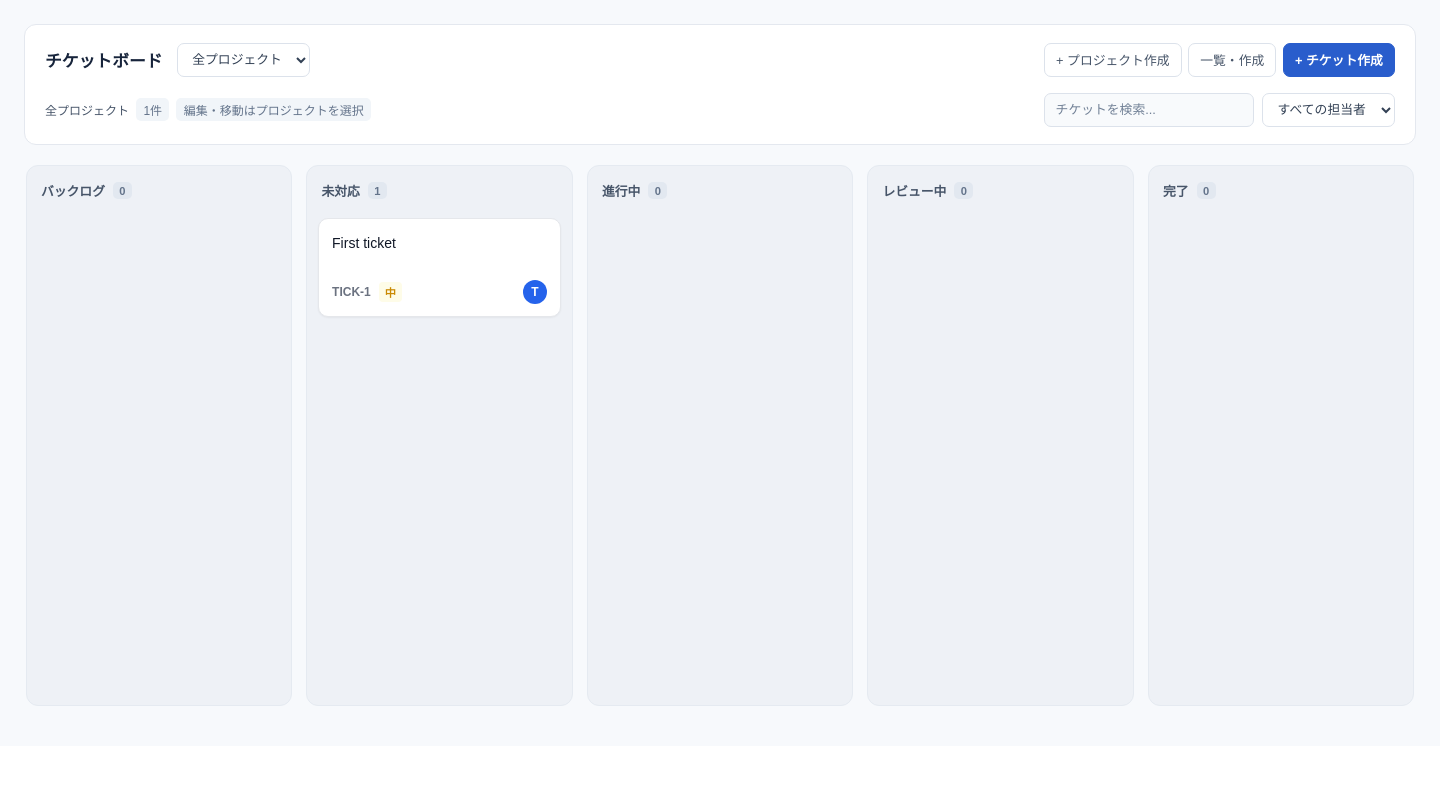
renders API ticket data and updates its status through the board
The width and height of the screenshot is (1440, 810).
Step 1. Select "General" in the dropdown named "プロジェクト" → (243, 60), box [177,43,310,77]
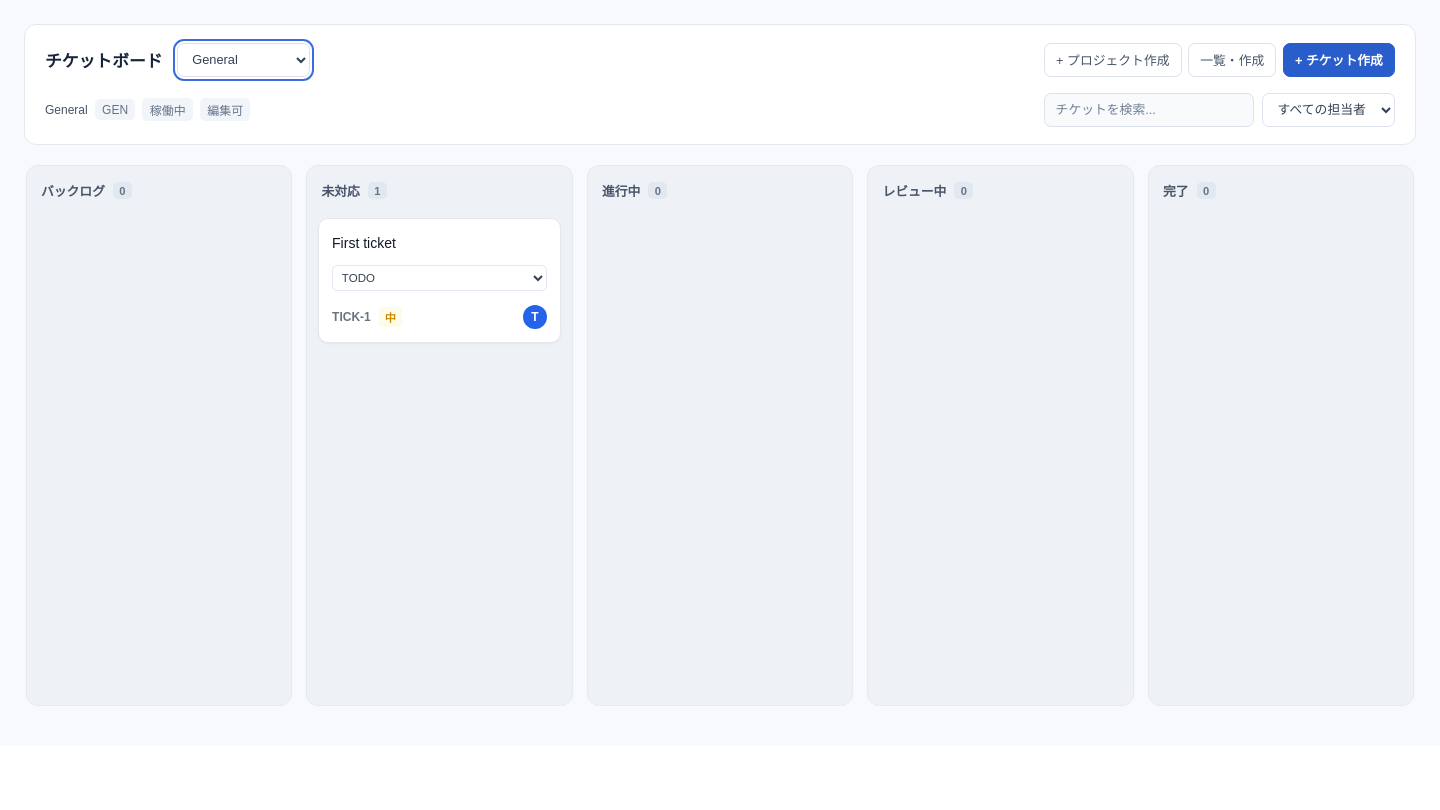
Expected: the button with aria-label "TICK-1 の詳細を開く" is shown, [332,232,396,255]
Expected: the dropdown named "First ticket のステータス" shows "TODO"
Step 2. Select "完了" in the dropdown named "First ticket のステータス" → (440, 278), box [332,265,547,291]
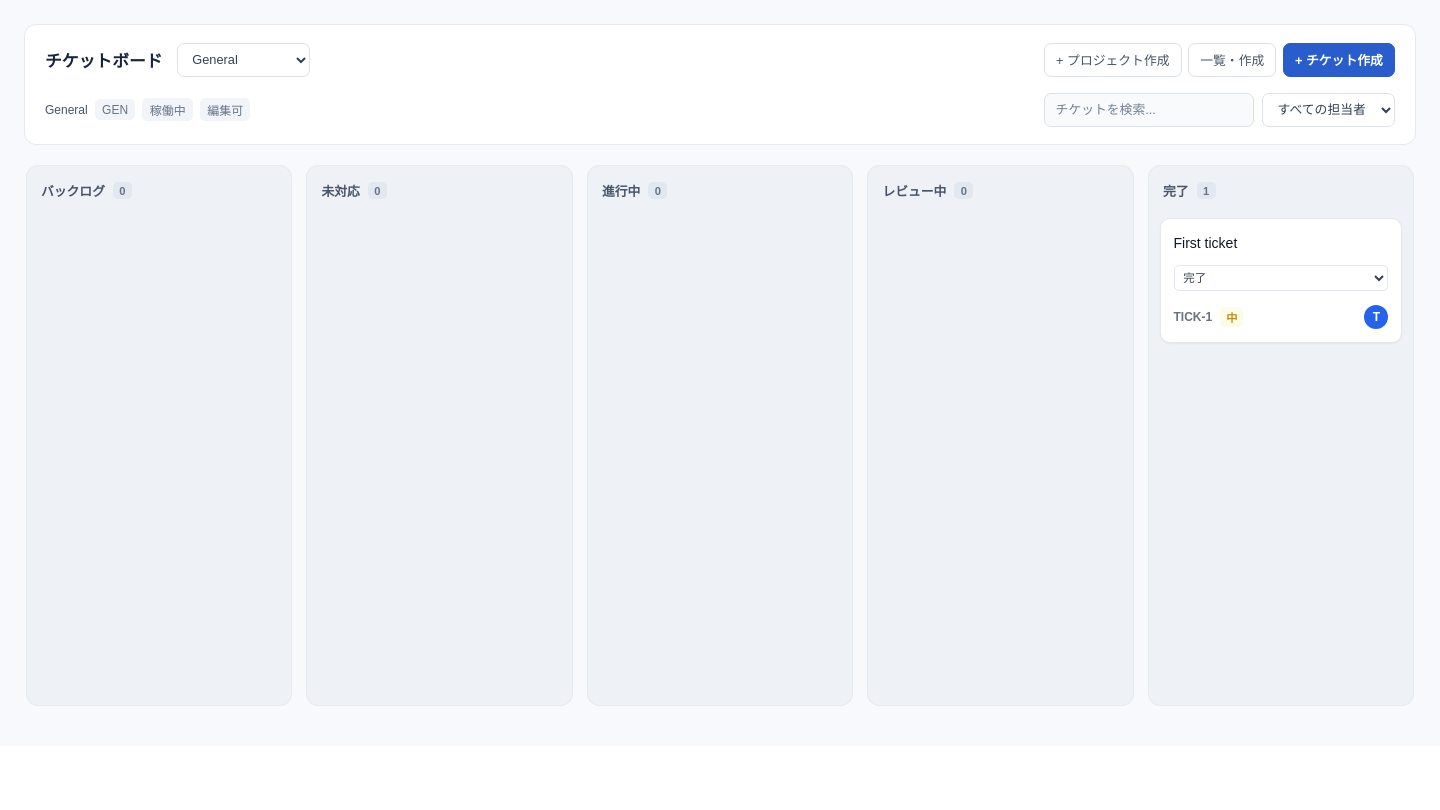
Expected: the dropdown named "First ticket のステータス" shows "完了", [1174,265,1388,291]
